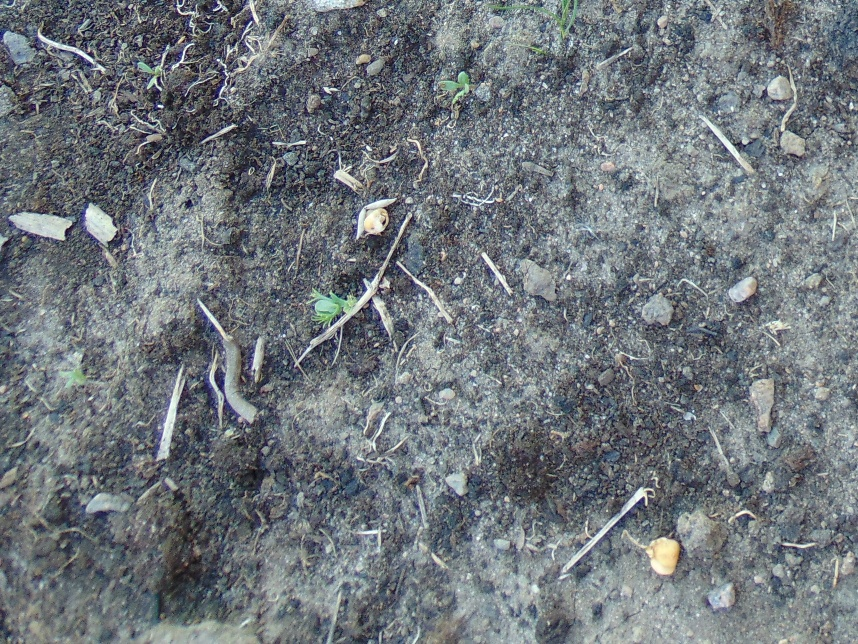crop: (302, 284, 364, 327)
